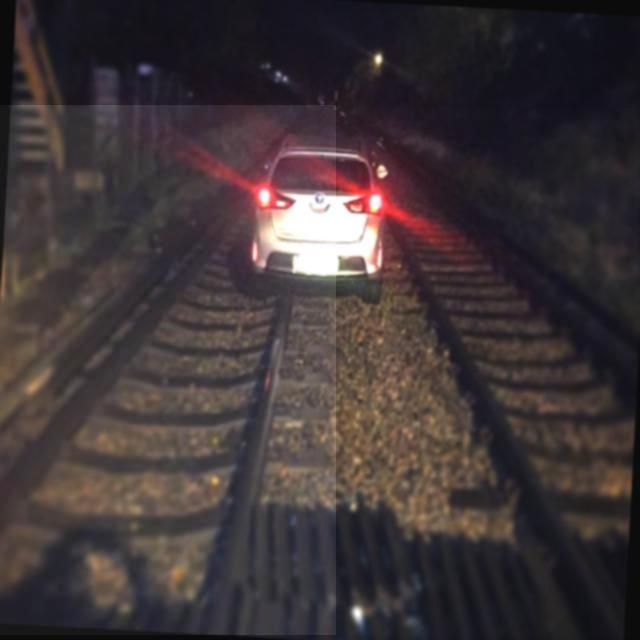rail: (1, 107, 337, 636), (337, 109, 640, 638)
